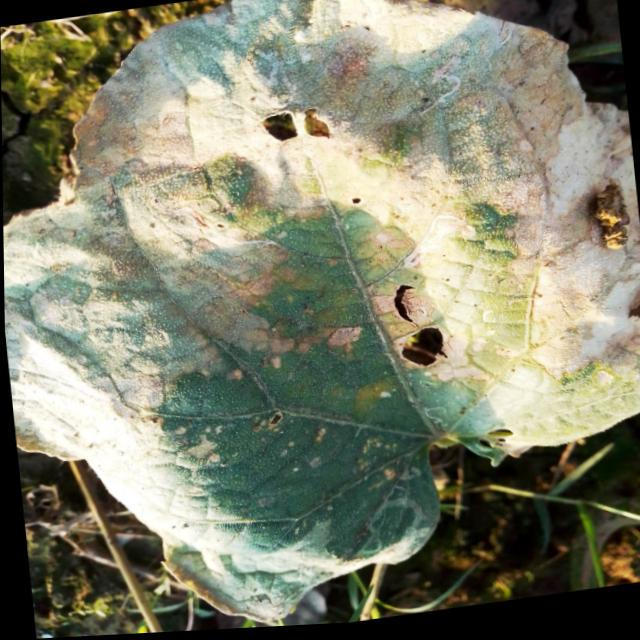Anthracnose: (379, 276, 456, 380), (252, 96, 340, 156)
